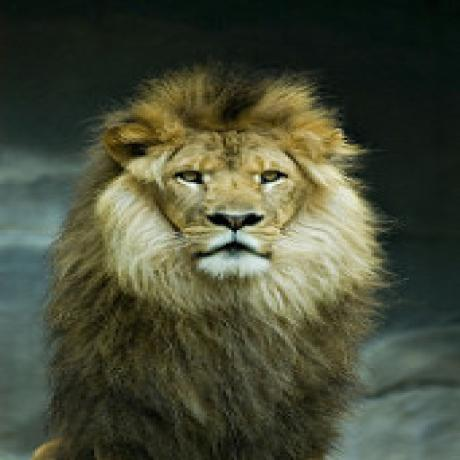Lion: (32, 59, 388, 460)
